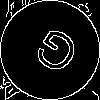G: (25, 25, 83, 85)
